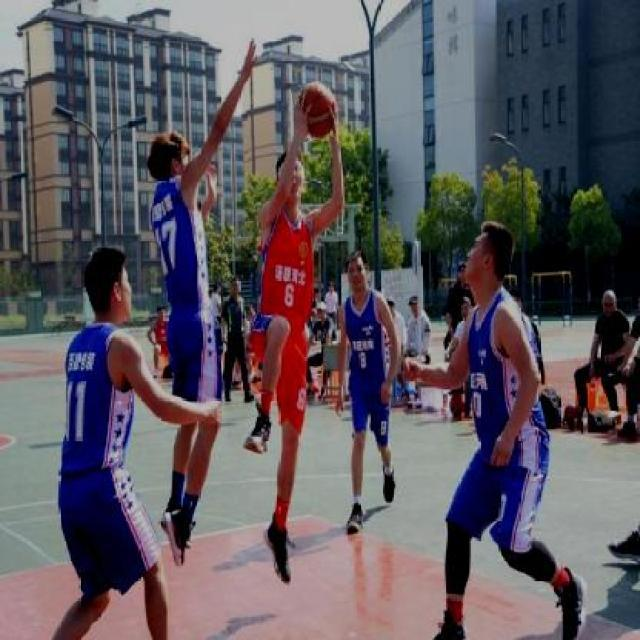Ball: (291, 81, 336, 142)
